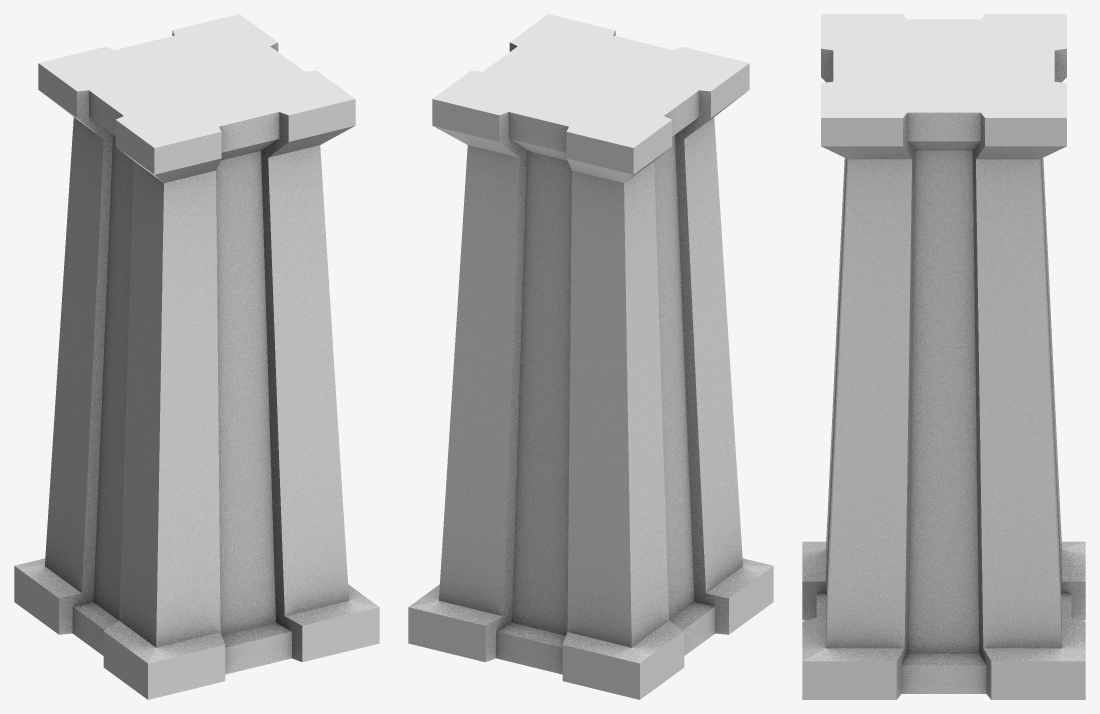
The model's file is Stand.fbx.
3 views of the same model, side by side, from view 1: azimuth 30°, elevation 25°; view 2: azimuth 150°, elevation 25°; view 3: azimuth 270°, elevation 25° (orthographic). The views are drawn at different scales.
Visible parts, largest first — view 1: Stand; view 2: Stand; view 3: Stand.
Part boxes in pixels (bbox=[...]): Stand: bbox=[14, 14, 379, 699]; Stand: bbox=[408, 14, 773, 699]; Stand: bbox=[802, 14, 1085, 699].
Size of the model in its own units: 36 by 80.49 by 36.
